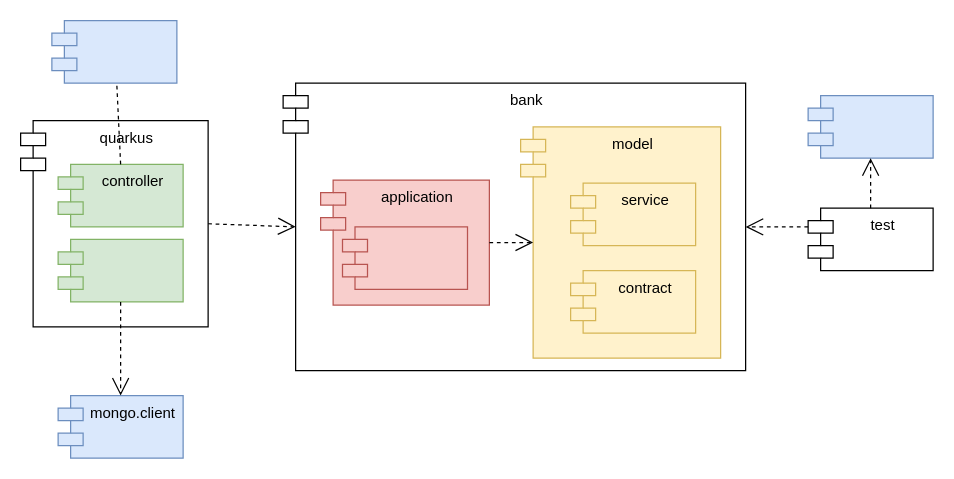
Image size: 954x479. Some labels were removed from this diagram. The centre of each missing label's shape, as x and y in pixels:
dto: the point at 404,257
io.quarkus: the point at 114,51
JUnit: the point at 870,126
repository: the point at 120,270
